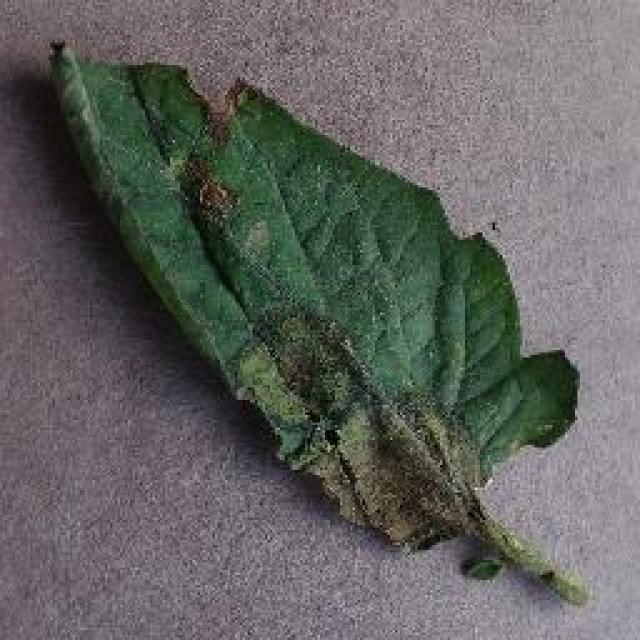Tomato___Late_blight: (52, 42, 580, 600)
